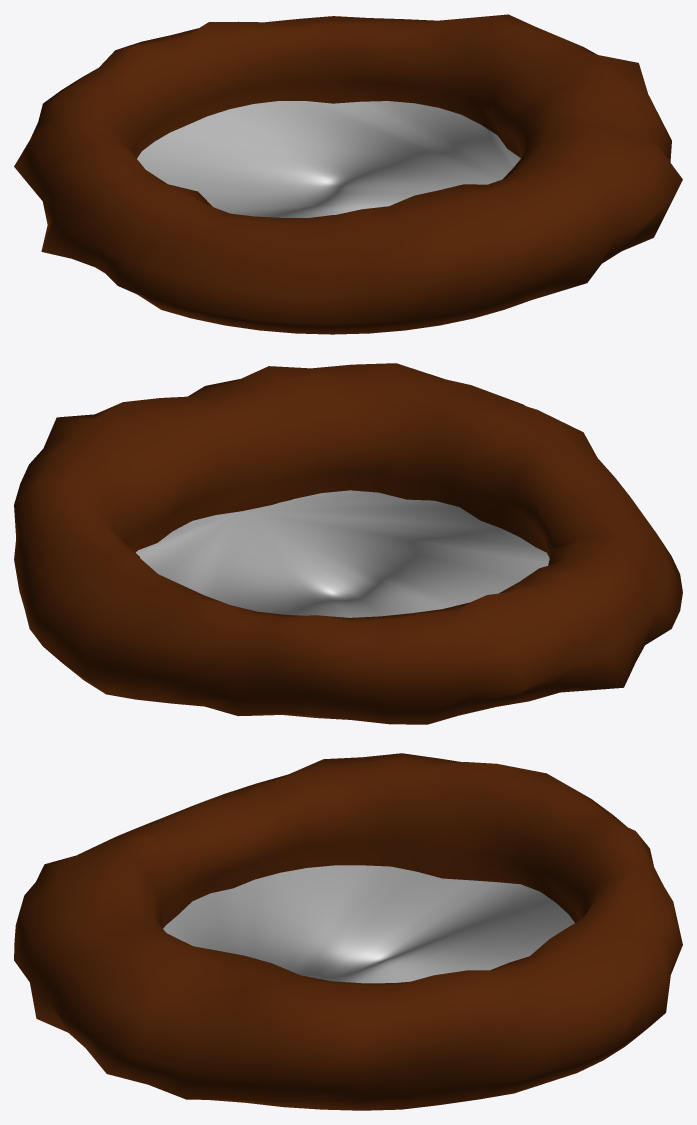
File: ChickenNest.fbx
3 views of the same model, one above another, from view 1: azimuth 30°, elevation 25°; view 2: azimuth 150°, elevation 25°; view 3: azimuth 270°, elevation 25° (orthographic). The views are drawn at different scales.
Parts seen in each view (by area): view 1: Cube.001; view 2: Cube.001; view 3: Cube.001.
Boxes of the visible parts, bbox=[...] form: Cube.001: bbox=[14, 14, 682, 334]; Cube.001: bbox=[14, 363, 682, 724]; Cube.001: bbox=[14, 753, 682, 1110].
Bounding box in the file's own units: 115 × 22.97 × 108.
